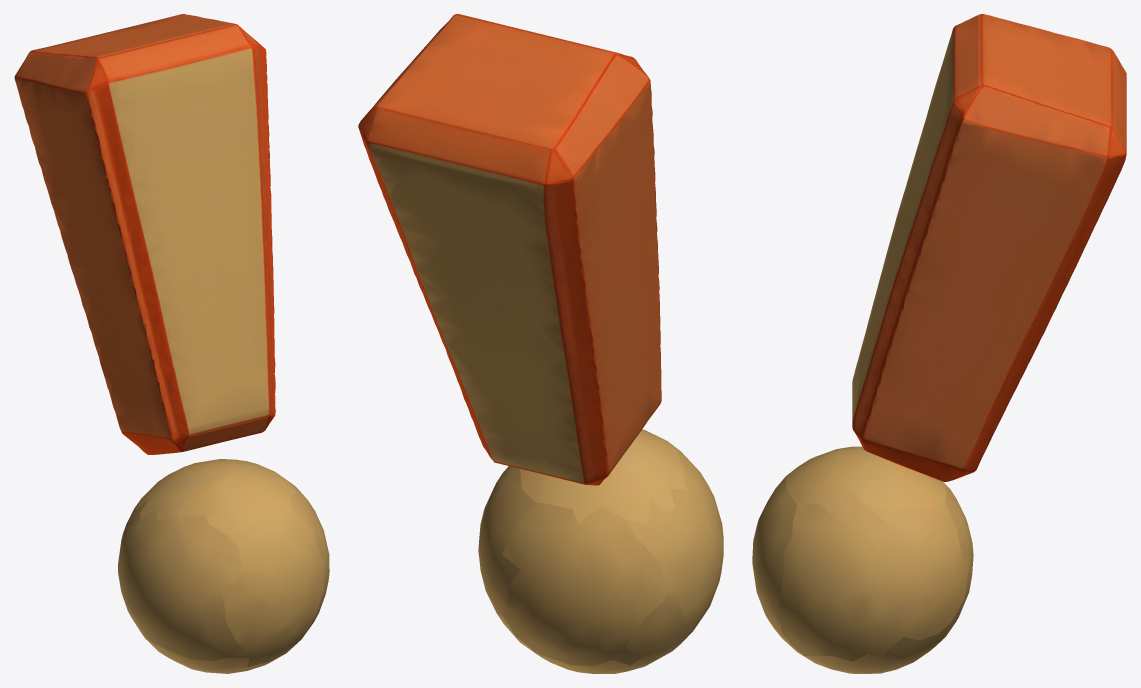
Rendered from map_marker_quest.glb.
3 renders of one model, left to right at view 1: azimuth 30°, elevation 25°; view 2: azimuth 150°, elevation 25°; view 3: azimuth 270°, elevation 25°, orthographic. The views are drawn at different scales.
Visible parts, largest first — view 1: world; view 2: world; view 3: world.
Boxes of the visible parts, bbox=[...] form: world: bbox=[14, 14, 329, 673]; world: bbox=[358, 14, 723, 673]; world: bbox=[752, 14, 1126, 673].
Bounding box in the file's own units: 0.3353 × 1 × 0.5528.
1 material, 1 textured.
